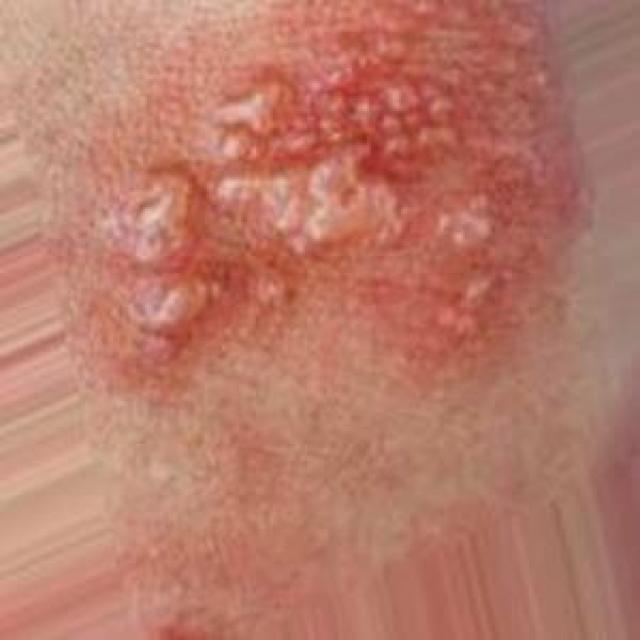Shingles: (104, 0, 585, 371)
